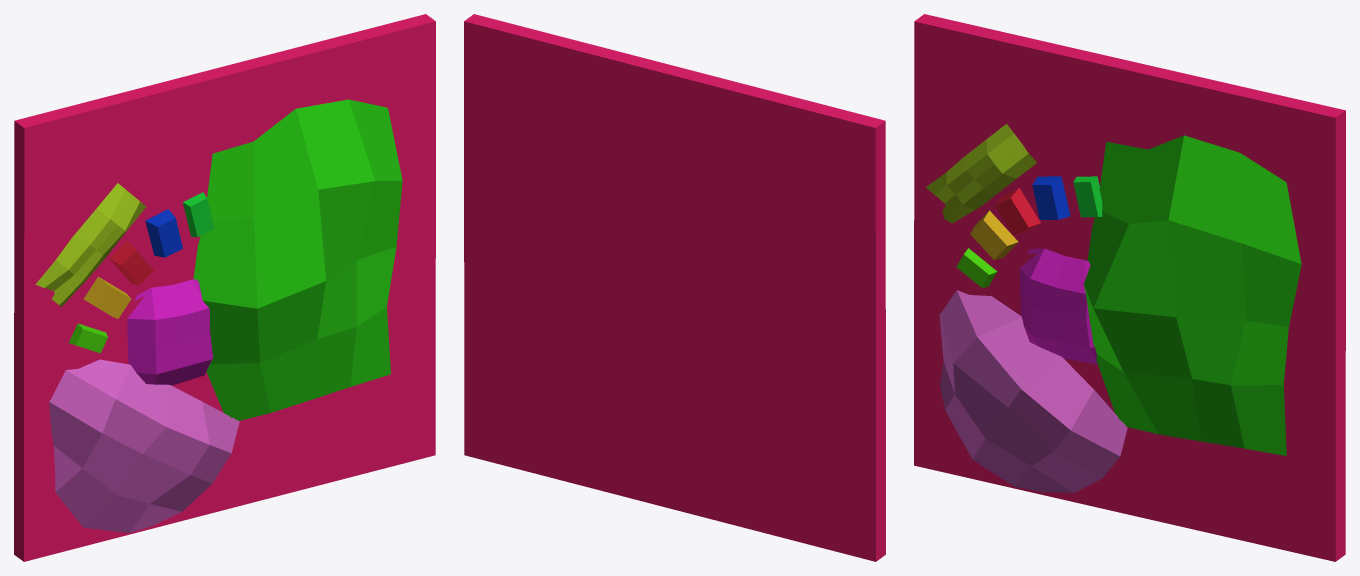
The model's file is phantom_collision_mesh.OBJ.
3 views of the same model, side by side, from view 1: azimuth 30°, elevation 25°; view 2: azimuth 150°, elevation 25°; view 3: azimuth 330°, elevation 25° (orthographic). The views are drawn at different scales.
Visible parts, largest first — view 1: phantom_collision_mesh_Plane.017; view 2: phantom_collision_mesh_Plane.017; view 3: phantom_collision_mesh_Plane.017.
Part boxes in pixels (x1,y1,x2,y2): phantom_collision_mesh_Plane.017: (14,14,435,561); phantom_collision_mesh_Plane.017: (464,14,885,561); phantom_collision_mesh_Plane.017: (914,14,1345,561).
Size of the model in its own units: 0.1394 by 0.1424 by 0.0229.
